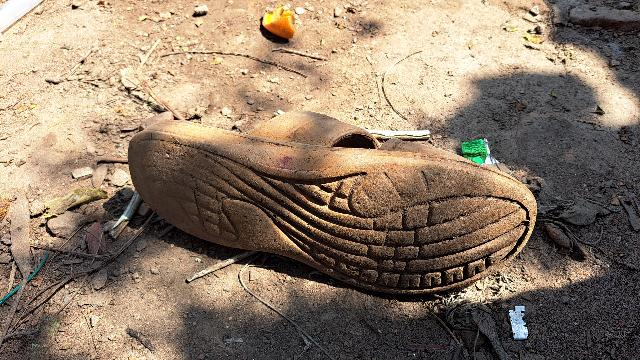sandal: (122, 103, 531, 317)
